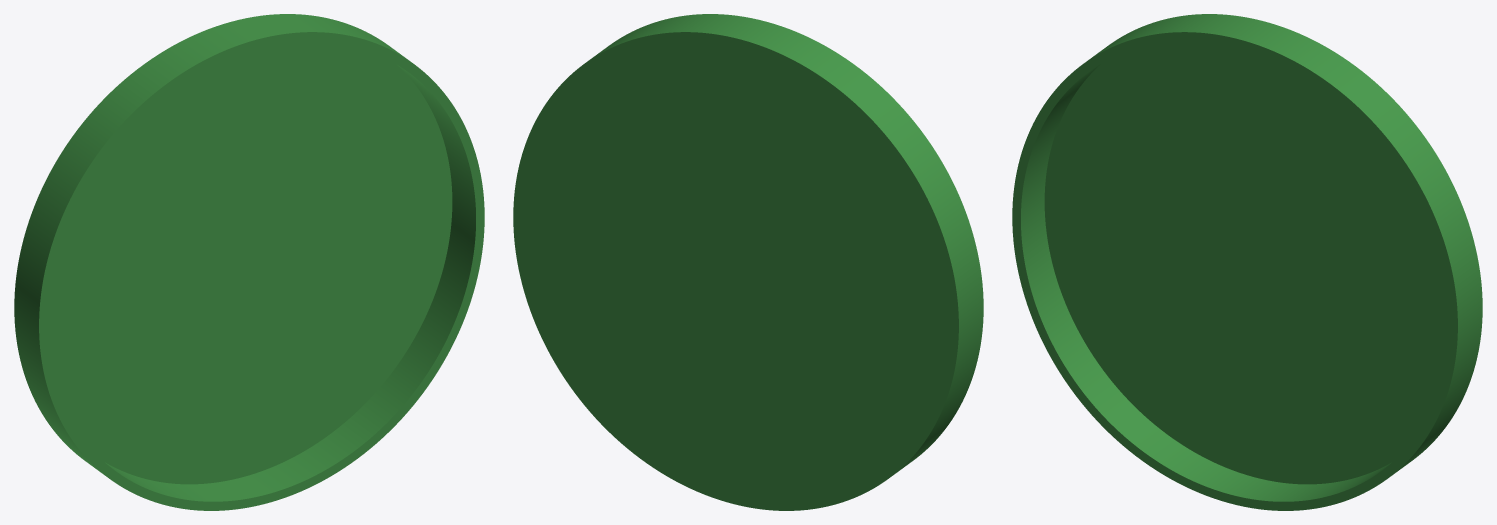
File: clean_world.obj
The picture shows the model from 3 angles, left to right: view 1: azimuth 30°, elevation 25°; view 2: azimuth 150°, elevation 25°; view 3: azimuth 330°, elevation 25°; orthographic projection.
Visible parts, largest first — view 1: clean_world; view 2: clean_world; view 3: clean_world.
Part boxes in pixels (x1,y1,x2,y2): clean_world: [14, 14, 484, 510]; clean_world: [513, 14, 983, 510]; clean_world: [1012, 14, 1482, 510].
Size of the model in its own units: 2.6 by 2.6 by 0.25.
